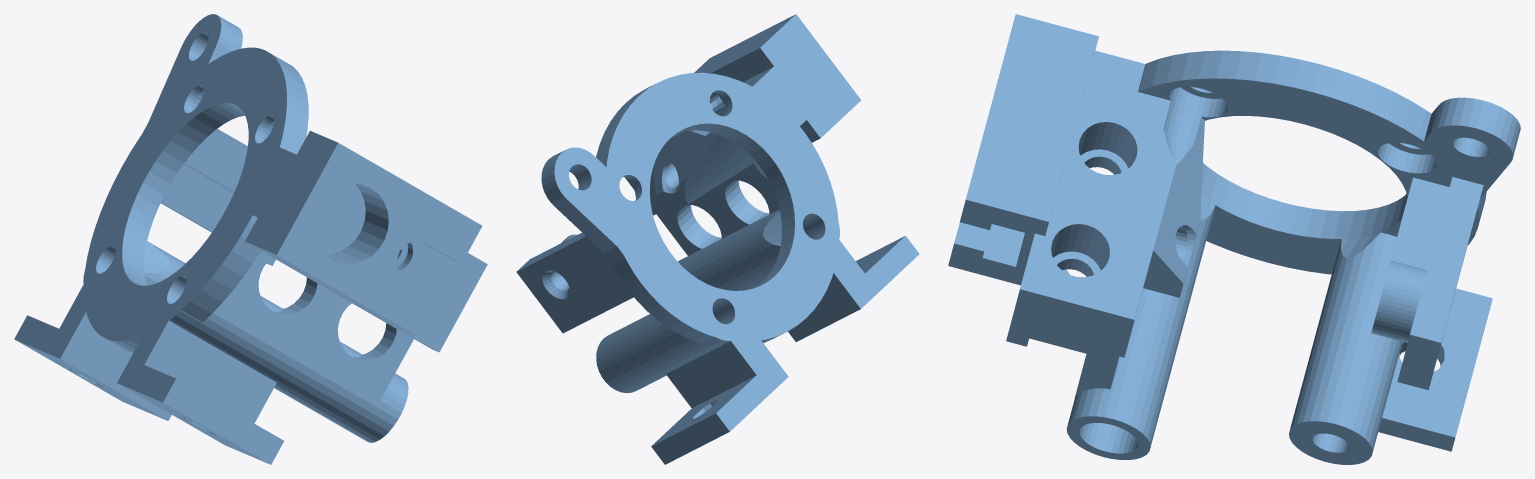
The model's file is gear1_4.dae.
3 views of the same model, side by side, from view 1: azimuth 30°, elevation 25°; view 2: azimuth 150°, elevation 25°; view 3: azimuth 270°, elevation 25° (orthographic). The views are drawn at different scales.
Parts seen in each view (by area): view 1: gear1_019; view 2: gear1_019; view 3: gear1_019.
Boxes of the visible parts, left/top/right/bottom form: gear1_019: left=14, top=14, right=487, bottom=464; gear1_019: left=516, top=14, right=919, bottom=464; gear1_019: left=948, top=14, right=1520, bottom=464.
Bounding box in the file's own units: 0.0679 × 0.089 × 0.0781.
